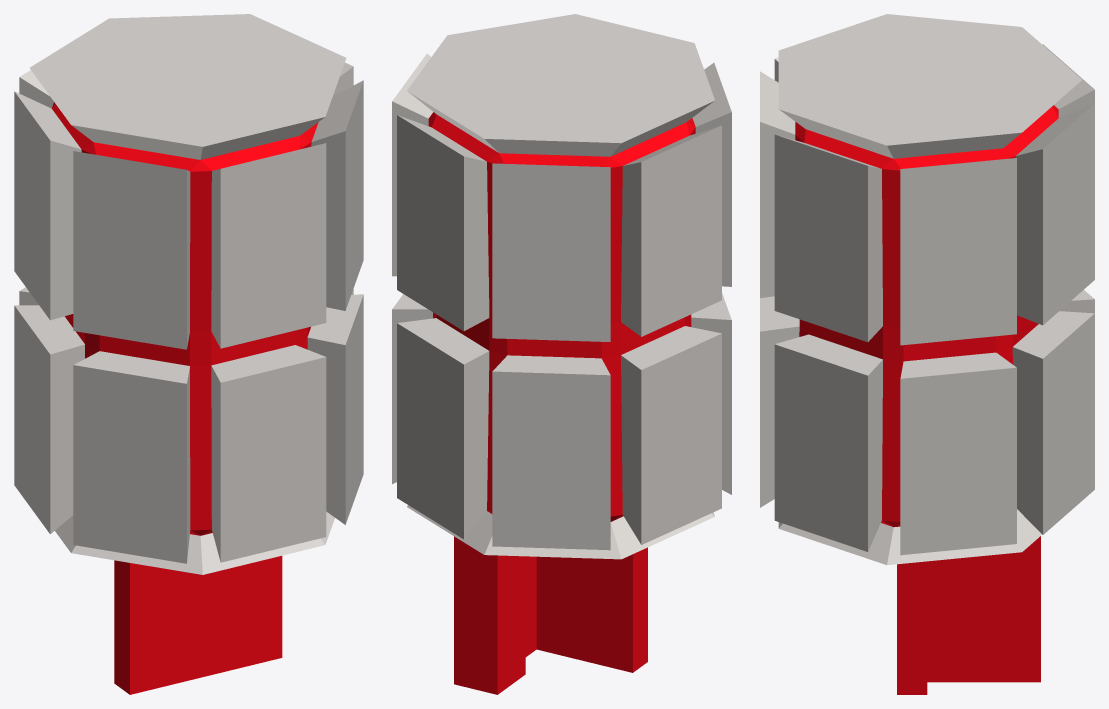
File: capacitor.glb
3 renders of one model, left to right at view 1: azimuth 30°, elevation 25°; view 2: azimuth 150°, elevation 25°; view 3: azimuth 270°, elevation 25°, orthographic. The views are drawn at different scales.
Parts seen in each view (by area): view 1: capacitor; view 2: capacitor; view 3: capacitor.
Part boxes in pixels (x1,y1,x2,y2): capacitor: (14,14,363,694); capacitor: (392,14,731,694); capacitor: (760,14,1094,694).
Size of the model in its own units: 0.2562 by 0.4754 by 0.2497.
